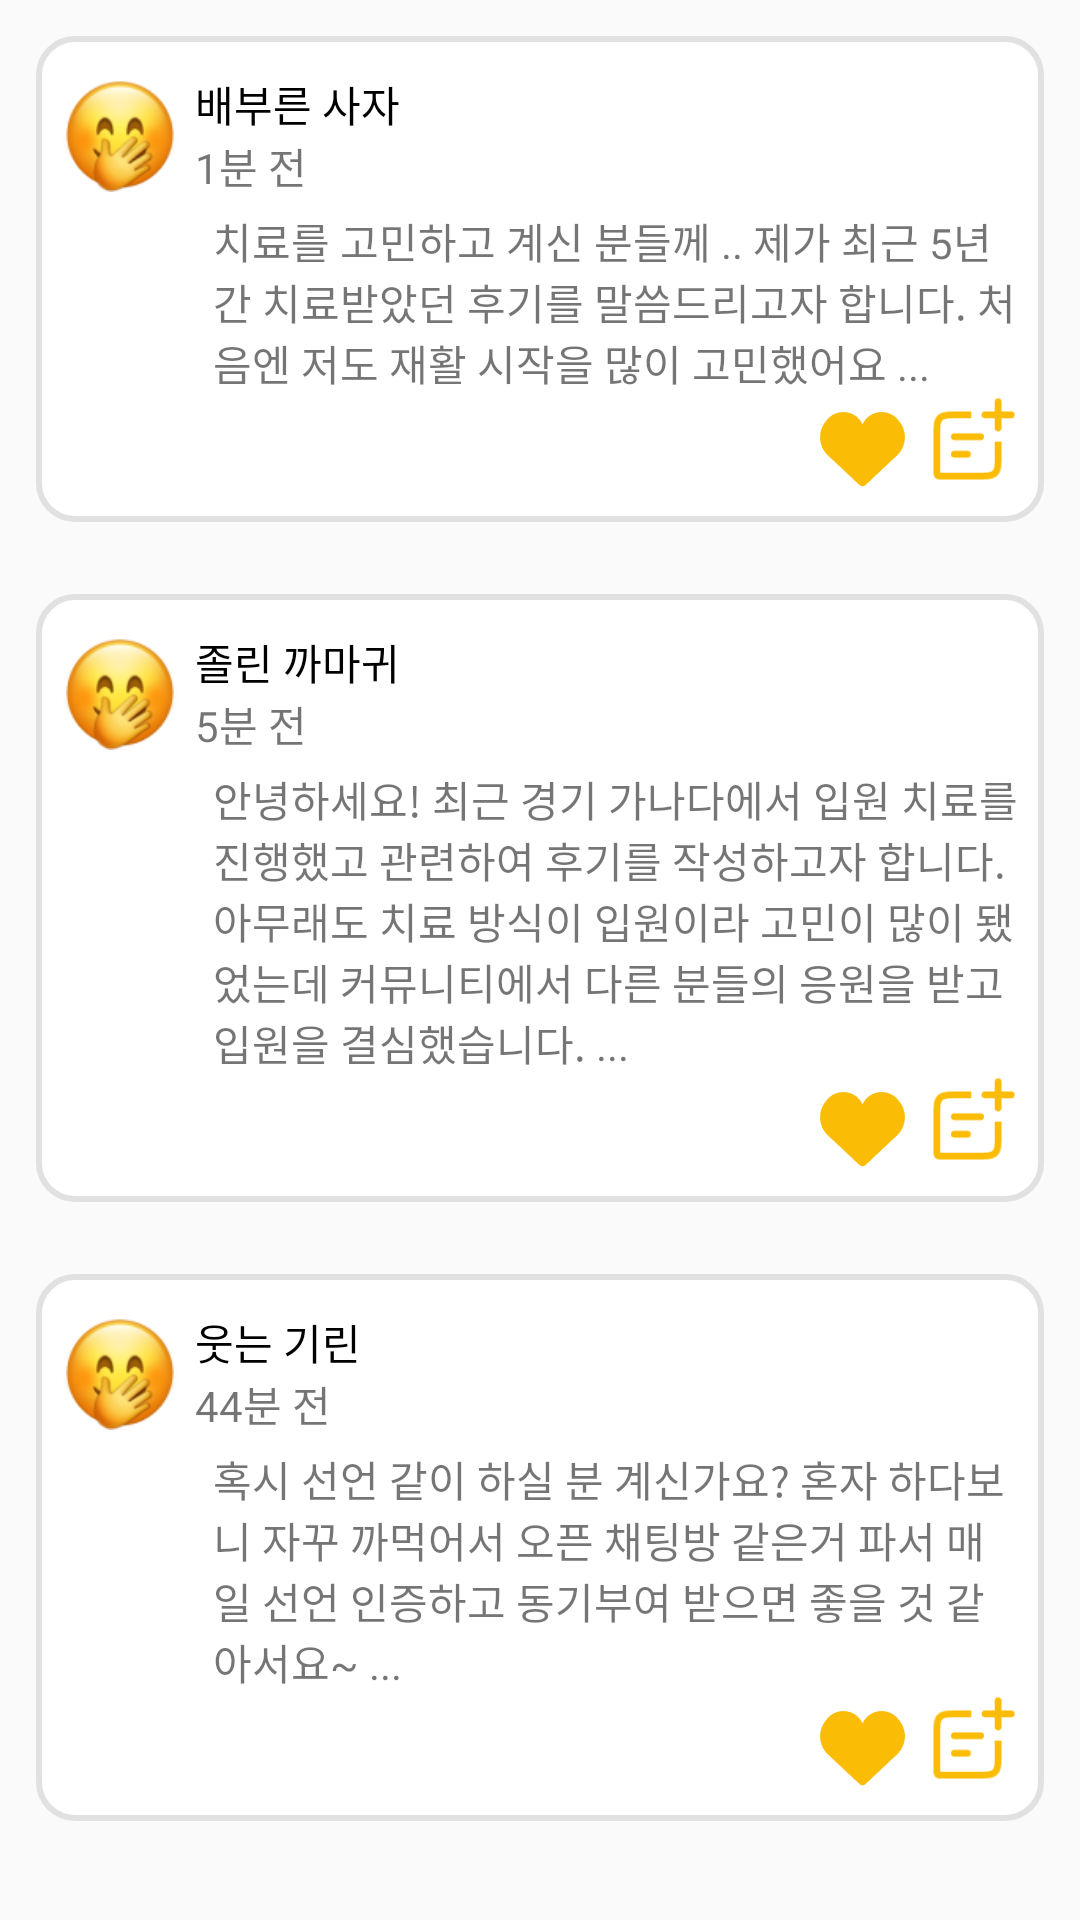

Where icons sit on this 1080px x 1920px app screen, as (x1, y1, x2, y2):
comment: (933, 398, 1015, 480), (933, 1078, 1015, 1160), (933, 1697, 1015, 1779)
